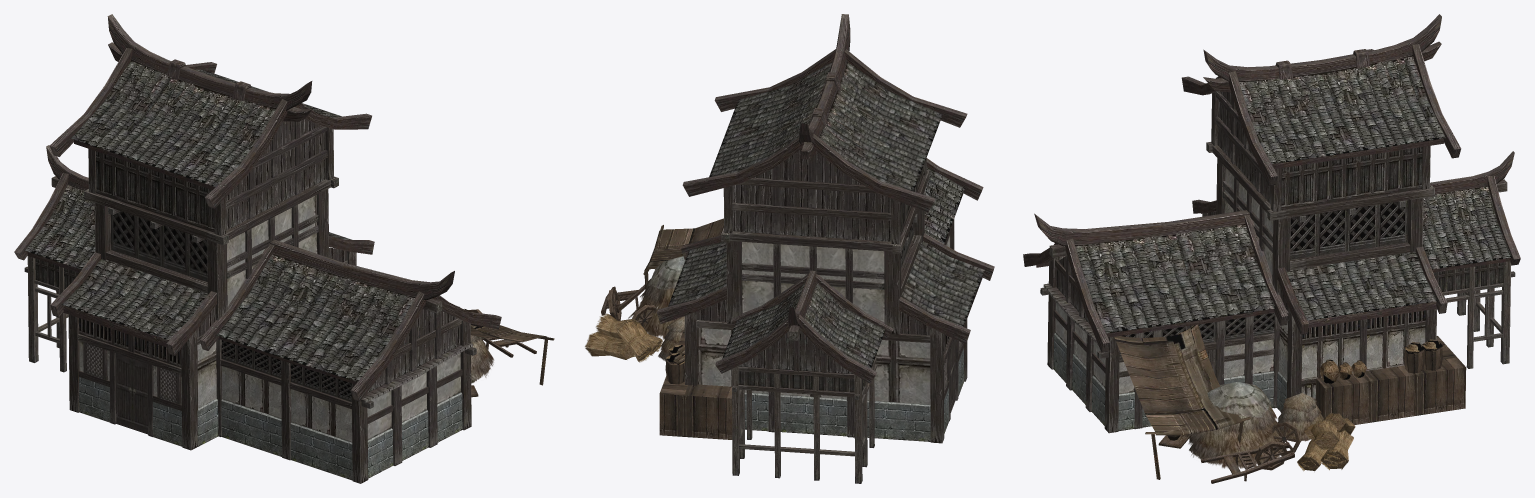
File: maison-chine.glb
The picture shows the model from 3 angles, left to right: view 1: azimuth 30°, elevation 25°; view 2: azimuth 150°, elevation 25°; view 3: azimuth 270°, elevation 25°; orthographic projection. The views are drawn at different scales.
Parts seen in each view (by area): view 1: Object_6, Object_3, Object_5, Object_4, Object_2; view 2: Object_6, Object_3, Object_5, Object_2, Object_4, Object_8; view 3: Object_6, Object_5, Object_3, Object_2, Object_4, Object_8.
Boxes of the visible parts, bbox=[...] form: Object_6: bbox=[14, 14, 501, 401]; Object_3: bbox=[24, 121, 476, 483]; Object_5: bbox=[35, 119, 472, 441]; Object_4: bbox=[458, 306, 536, 397]; Object_2: bbox=[464, 309, 554, 385]; Object_6: bbox=[656, 14, 994, 383]; Object_3: bbox=[684, 155, 967, 483]; Object_5: bbox=[697, 149, 950, 404]; Object_2: bbox=[643, 218, 732, 439]; Object_4: bbox=[601, 256, 685, 361]; Object_8: bbox=[585, 313, 663, 362]; Object_6: bbox=[1023, 14, 1520, 352]; Object_5: bbox=[1043, 91, 1503, 398]; Object_3: bbox=[1040, 91, 1515, 433]; Object_2: bbox=[1114, 324, 1466, 479]; Object_4: bbox=[1158, 382, 1323, 483]; Object_8: bbox=[1297, 413, 1355, 471].
Bounding box in the file's own units: 1422 × 1099 × 1482.
Materials: 7 (7 with a texture image).
